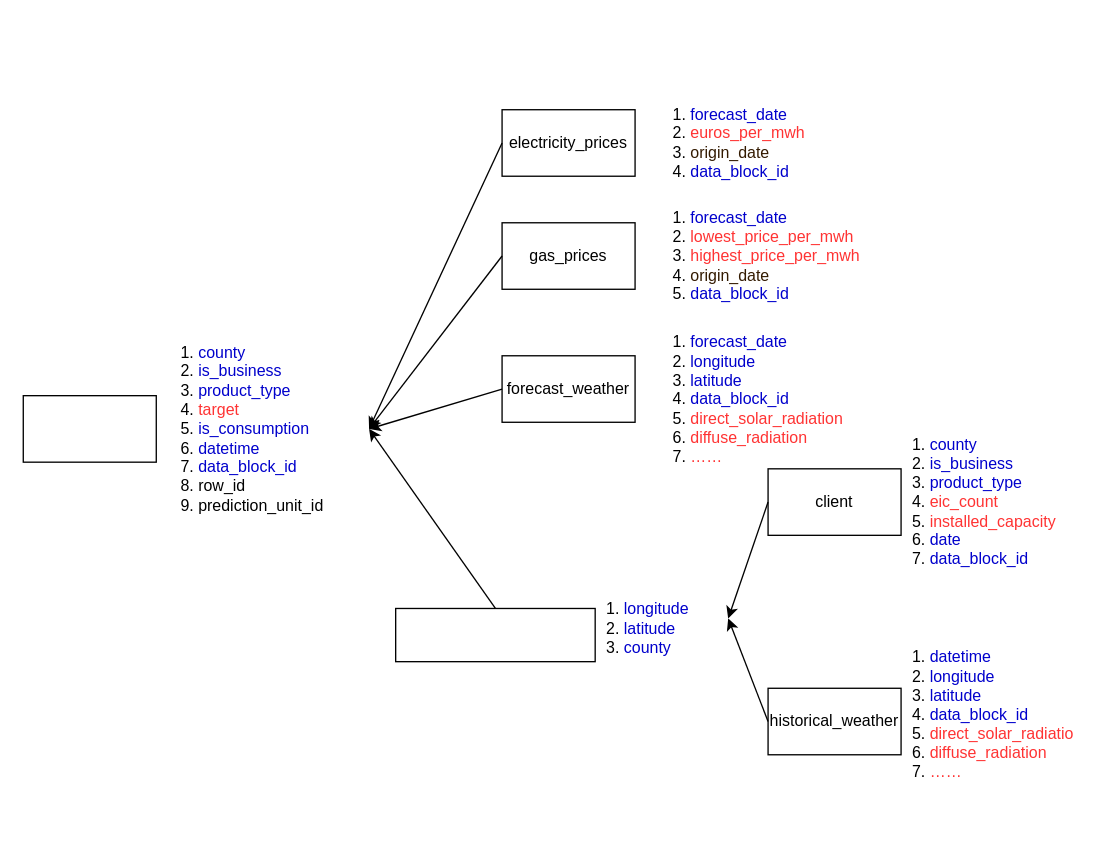
Image size: 1104x843. Some labels were removed from this diagram. The centre of each missing label's shape, as x and y in pixels:
train: (89,428)
weather_station_to_county: (494,634)
